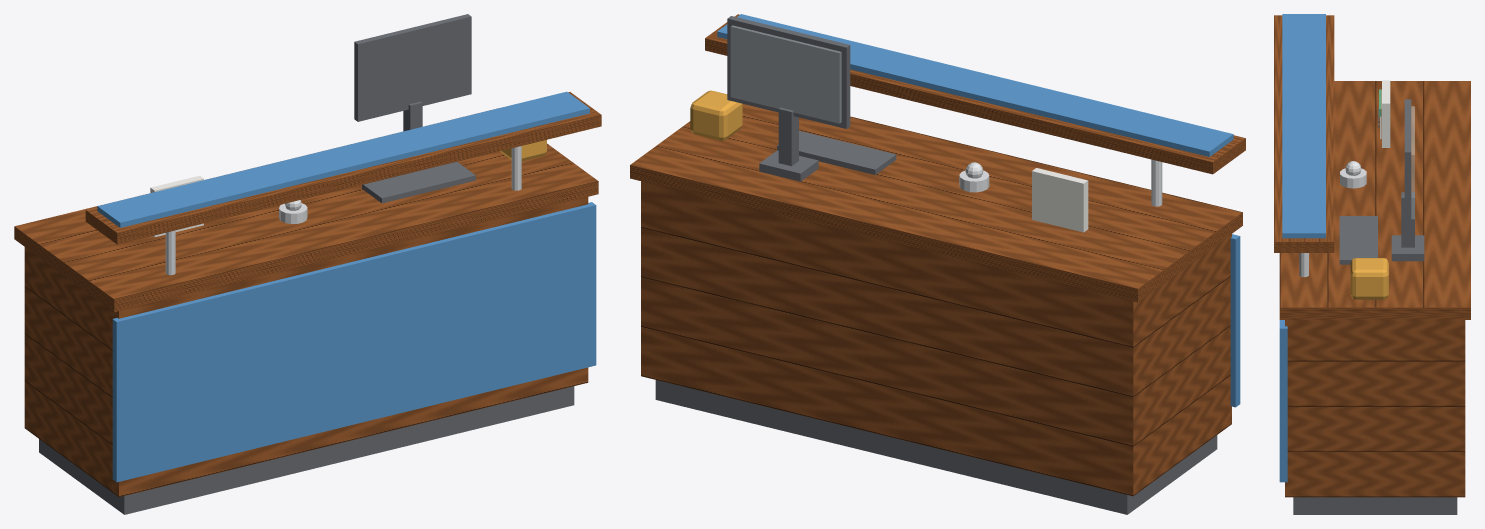
Rendered from boarding-kennels-and-cattery-boarding-kennels-and-catt-97fe30c2__35568.glb.
3 renders of one model, left to right at view 1: azimuth 30°, elevation 25°; view 2: azimuth 150°, elevation 25°; view 3: azimuth 270°, elevation 25°, orthographic. The views are drawn at different scales.
Visible parts, largest first — view 1: boarding-kennels-and-cattery-reception-desk; view 2: boarding-kennels-and-cattery-reception-desk; view 3: boarding-kennels-and-cattery-reception-desk.
Boxes of the visible parts, <box> form: boarding-kennels-and-cattery-reception-desk: <box>14,14,601,514</box>; boarding-kennels-and-cattery-reception-desk: <box>630,14,1245,514</box>; boarding-kennels-and-cattery-reception-desk: <box>1274,14,1470,514</box>.
Size of the model in its own units: 1.96 by 1.38 by 0.72.
8 materials, 1 textured.
